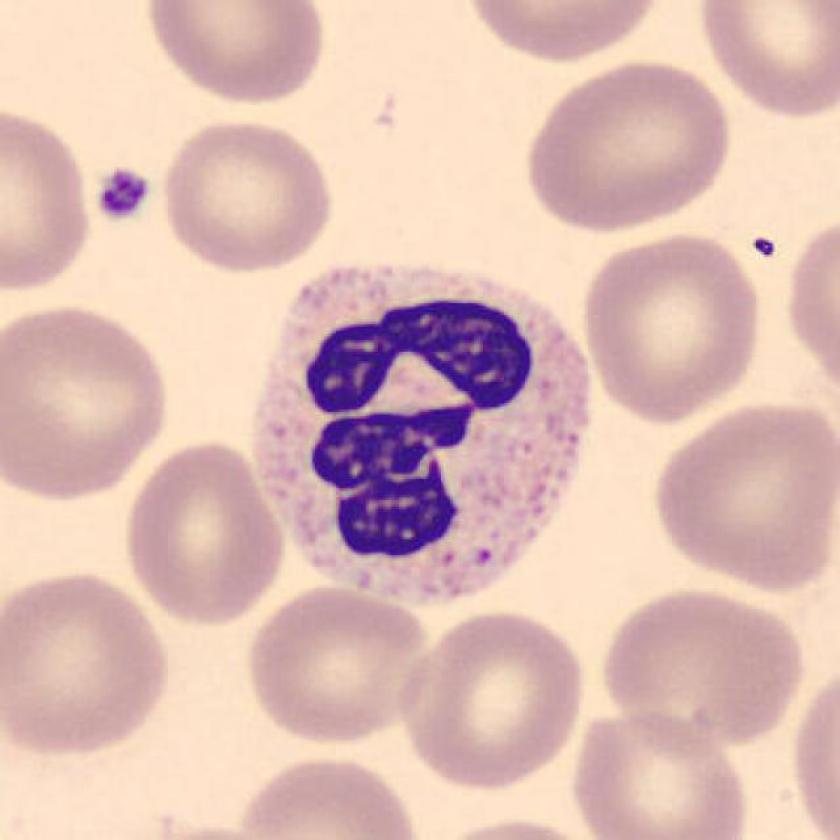neutrophil: (252, 267, 592, 608)
